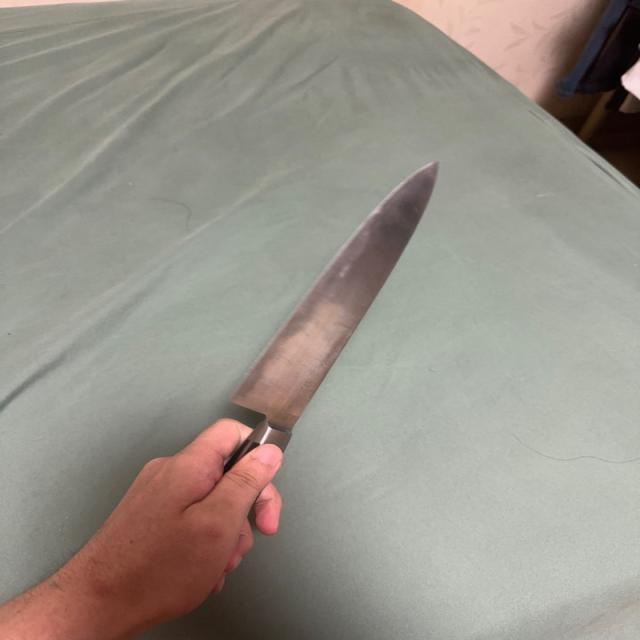knife: (229, 157, 442, 467)
